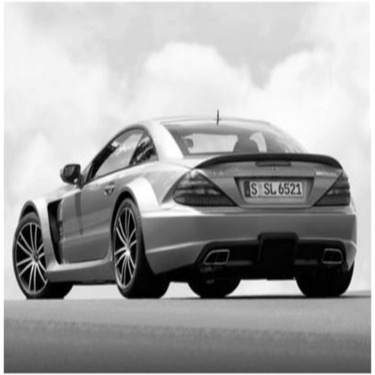car: (3, 108, 361, 310)
